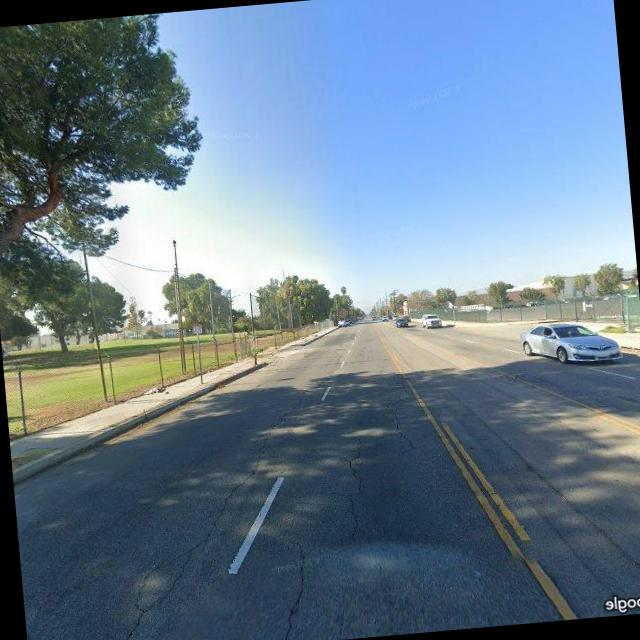pothole: (97, 387, 311, 640), (268, 510, 322, 640), (322, 416, 376, 546), (385, 363, 420, 455)
